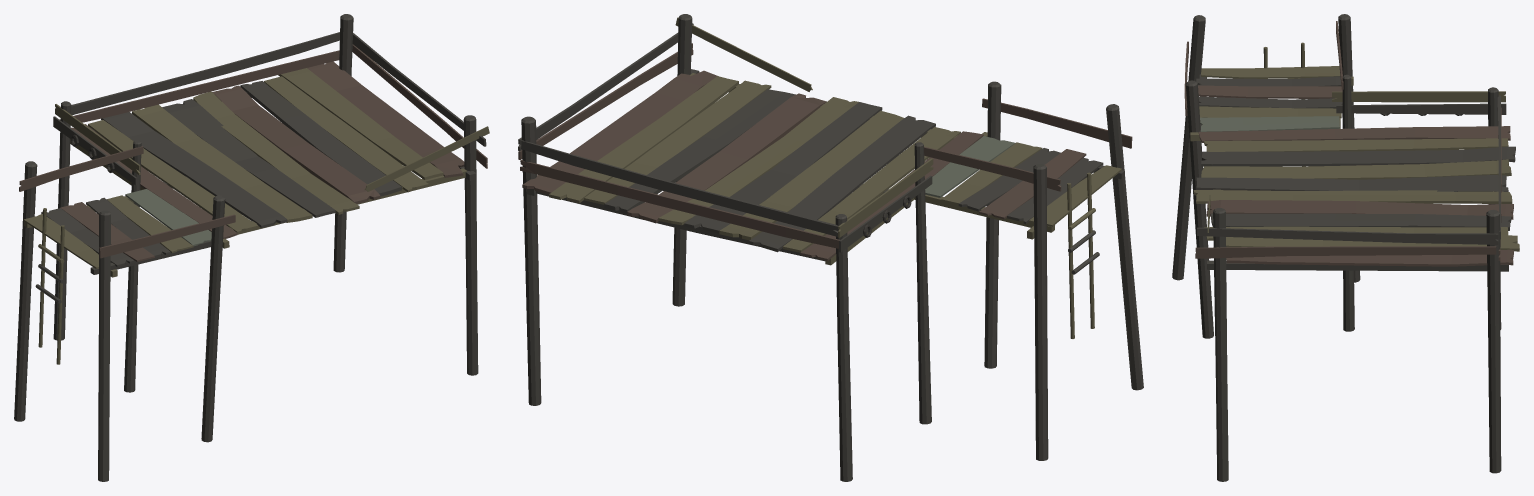
File: PIER.fbx
3 views of the same model, side by side, from view 1: azimuth 30°, elevation 25°; view 2: azimuth 150°, elevation 25°; view 3: azimuth 270°, elevation 25° (orthographic). The views are drawn at different scales.
Parts seen in each view (by area): view 1: Pier; view 2: Pier; view 3: Pier.
Part boxes in pixels (x1,y1,x2,y2): Pier: (14,14,489,481); Pier: (518,14,1143,481); Pier: (1172,14,1519,481).
Size of the model in its own units: 180 by 110 by 128.
